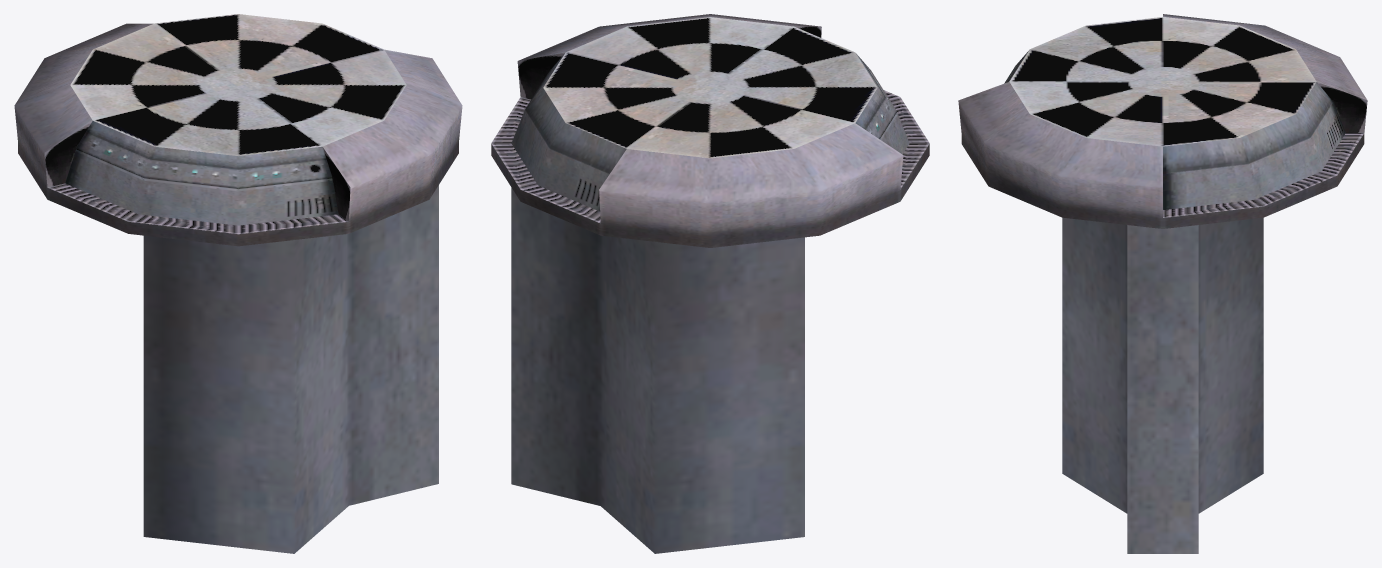
Rendered from eqp_game_dejarik_gameboard_l1.fbx.
3 views of the same model, side by side, from view 1: azimuth 30°, elevation 25°; view 2: azimuth 150°, elevation 25°; view 3: azimuth 270°, elevation 25° (orthographic). The views are drawn at different scales.
Parts seen in each view (by area): view 1: mesh_node; view 2: mesh_node; view 3: mesh_node.
Boxes of the visible parts, <box> form: mesh_node: <box>14,14,462,553</box>; mesh_node: <box>491,14,929,553</box>; mesh_node: <box>958,14,1367,553</box>.
Bounding box in the file's own units: 0.806 × 0.8509 × 0.806.
